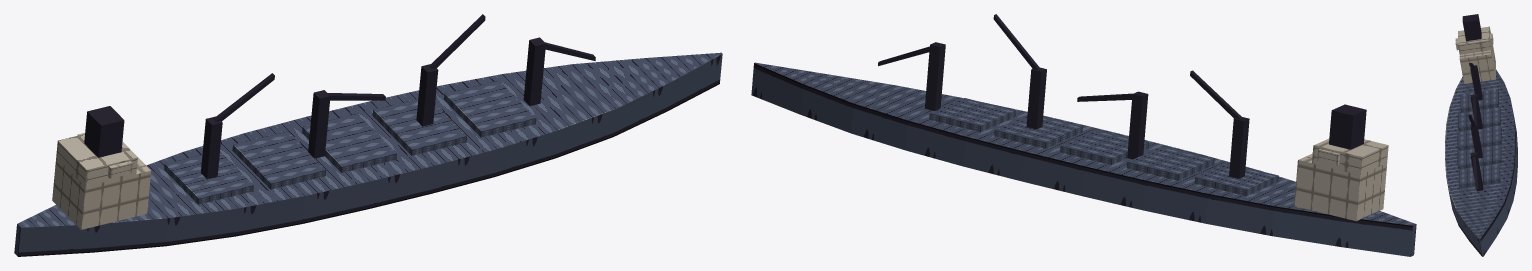
File: MAR-03_Carguero_en_el_horizonte.gltf
3 views of the same model, side by side, from view 1: azimuth 30°, elevation 25°; view 2: azimuth 150°, elevation 25°; view 3: azimuth 270°, elevation 25° (orthographic). The views are drawn at different scales.
Parts seen in each view (by area): view 1: MAR-03_Carguero_en_el_horizonte; view 2: MAR-03_Carguero_en_el_horizonte; view 3: MAR-03_Carguero_en_el_horizonte.
Part boxes in pixels (<box>): MAR-03_Carguero_en_el_horizonte: <box>14,14,722,256</box>; MAR-03_Carguero_en_el_horizonte: <box>751,14,1416,256</box>; MAR-03_Carguero_en_el_horizonte: <box>1445,14,1517,256</box>.
Size of the model in its own units: 170 by 33.91 by 27.71.
Materials: 1 (1 with a texture image).
